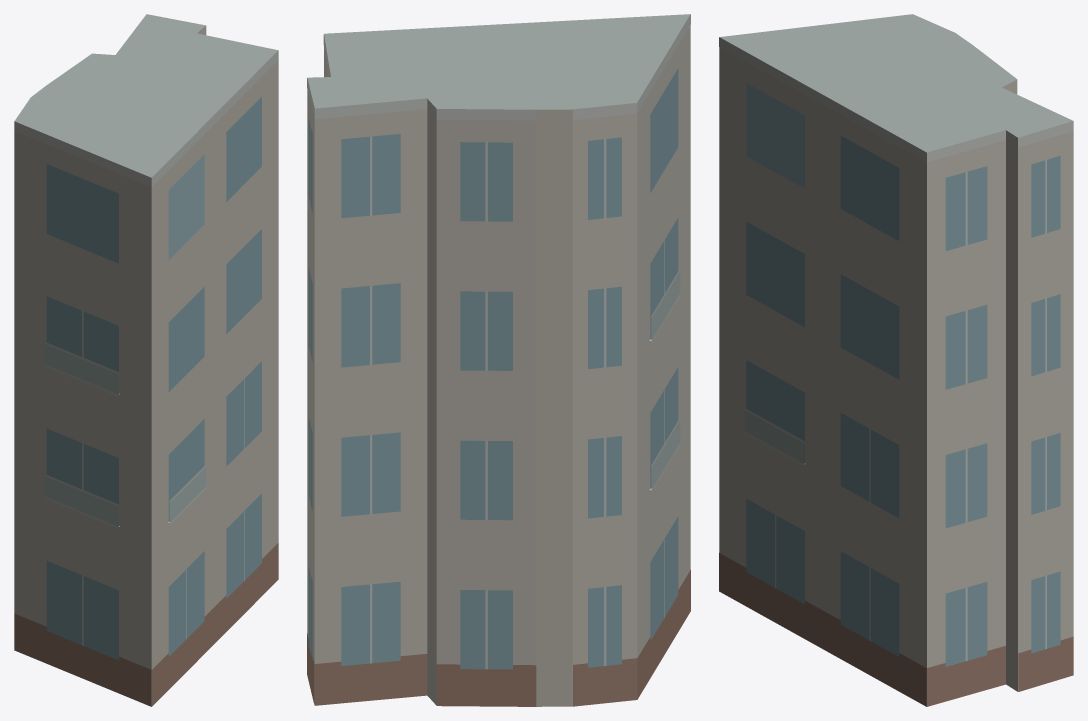
The model's file is survey-upis-32460514.glb.
3 views of the same model, side by side, from view 1: azimuth 30°, elevation 25°; view 2: azimuth 150°, elevation 25°; view 3: azimuth 270°, elevation 25° (orthographic). The views are drawn at different scales.
Visible parts, largest first — view 1: survey-upis-32460514.tmp; view 2: survey-upis-32460514.tmp; view 3: survey-upis-32460514.tmp.
Part boxes in pixels (bbox=[...]): survey-upis-32460514.tmp: bbox=[14, 14, 278, 706]; survey-upis-32460514.tmp: bbox=[307, 14, 690, 706]; survey-upis-32460514.tmp: bbox=[719, 14, 1073, 706].
Size of the model in its own units: 7.32 by 13.65 by 7.92.
